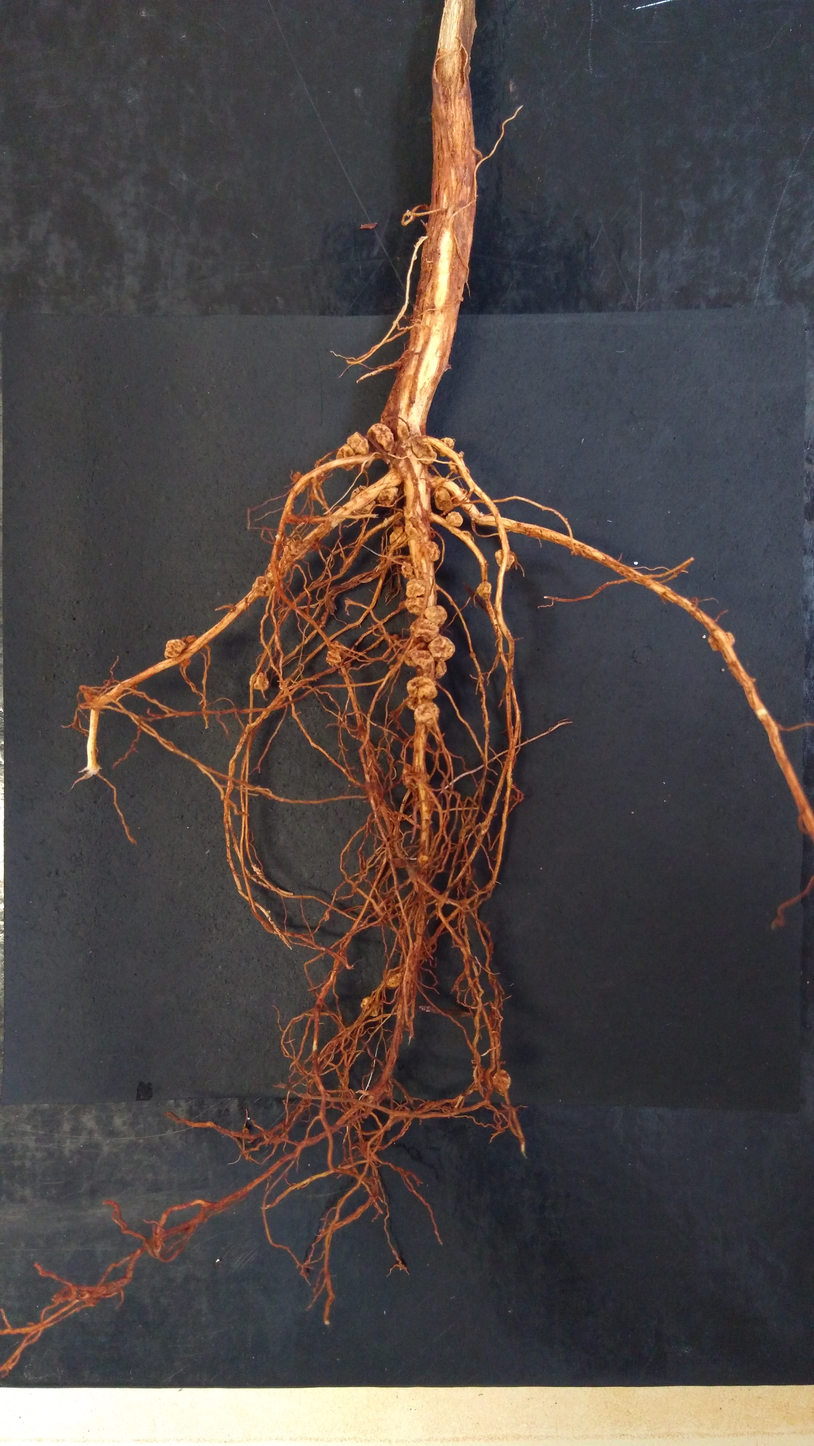nodule: (365, 422, 395, 453), (405, 674, 439, 700), (350, 483, 376, 516), (427, 635, 456, 663), (410, 440, 437, 466), (413, 617, 440, 643), (411, 701, 440, 725), (335, 442, 357, 472), (706, 629, 735, 651), (346, 430, 370, 456), (493, 547, 517, 573), (491, 1068, 512, 1097), (422, 604, 448, 626), (433, 485, 453, 513), (163, 637, 187, 660), (375, 485, 400, 507), (324, 641, 344, 668), (409, 649, 435, 669), (404, 595, 427, 616), (448, 458, 471, 478), (404, 578, 427, 598), (424, 538, 441, 563), (388, 525, 408, 546), (360, 996, 380, 1017), (251, 671, 270, 692), (437, 435, 455, 457), (475, 580, 493, 602), (444, 510, 465, 528), (398, 560, 416, 581), (385, 971, 404, 990), (434, 659, 448, 680), (396, 419, 409, 441), (185, 634, 198, 643), (416, 855, 429, 863)
